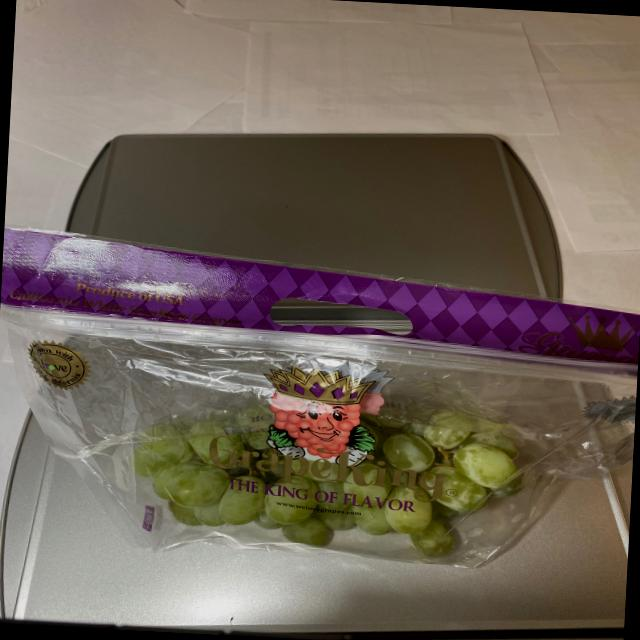grapes: (128, 398, 560, 556)
